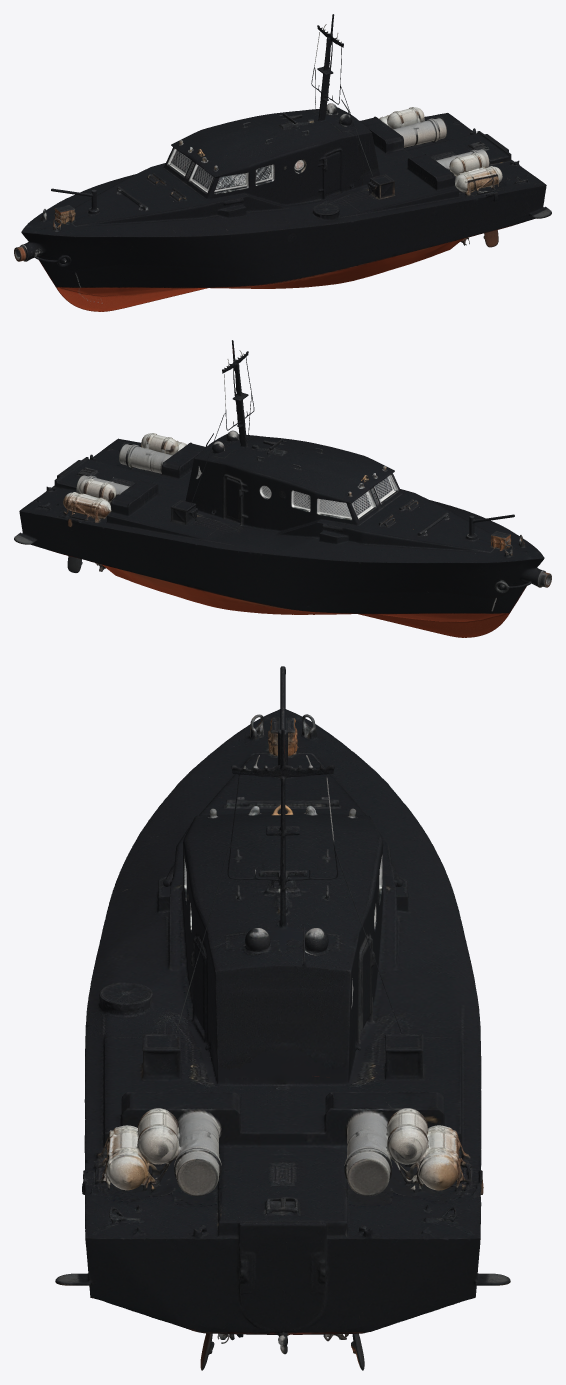
File: pawn_black.glb
3 renders of one model, top to bottom at view 1: azimuth 30°, elevation 25°; view 2: azimuth 150°, elevation 25°; view 3: azimuth 270°, elevation 25°, orthographic. The views are drawn at different scales.
Parts seen in each view (by area): view 1: mesh_node; view 2: mesh_node; view 3: mesh_node.
Boxes of the visible parts, <box> form: mesh_node: <box>14,14,551,311</box>; mesh_node: <box>14,340,551,637</box>; mesh_node: <box>55,666,510,1370</box>.
Size of the model in its own units: 1.9 by 0.9363 by 0.7665.
Materials: 1 (1 with a texture image).
